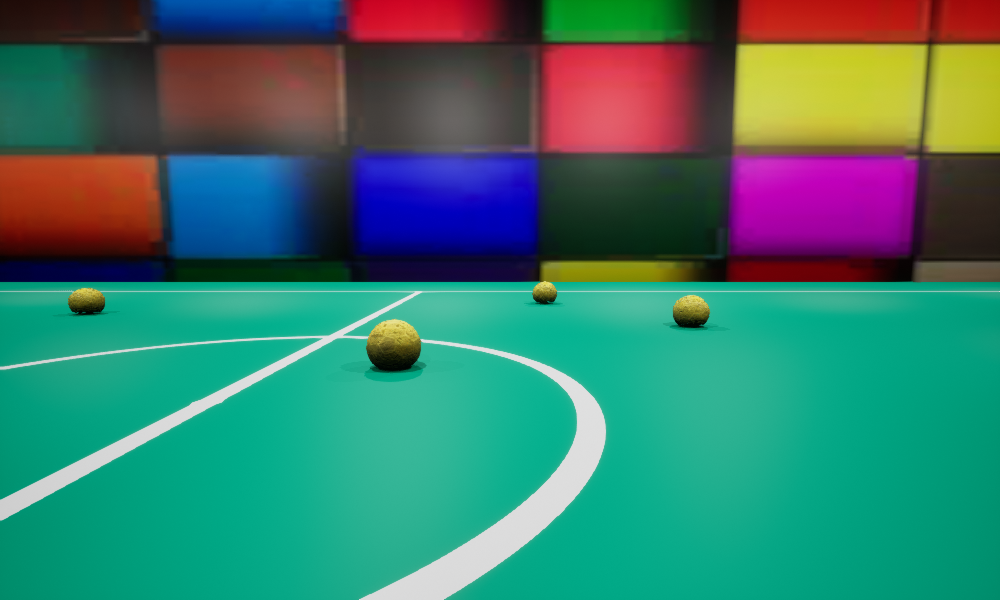b: (366, 319, 420, 369), (673, 295, 709, 327), (68, 288, 104, 314), (532, 281, 556, 303)
